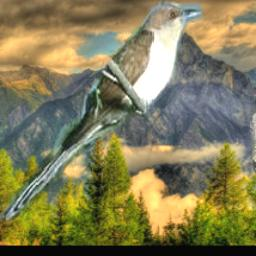Cuckoo: (0, 0, 206, 229)
Woodpecker: (251, 94, 256, 173)
